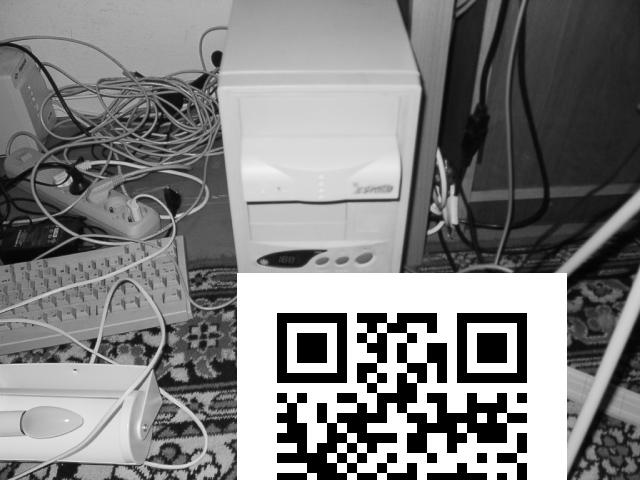qr_code: (238, 275, 567, 480)
